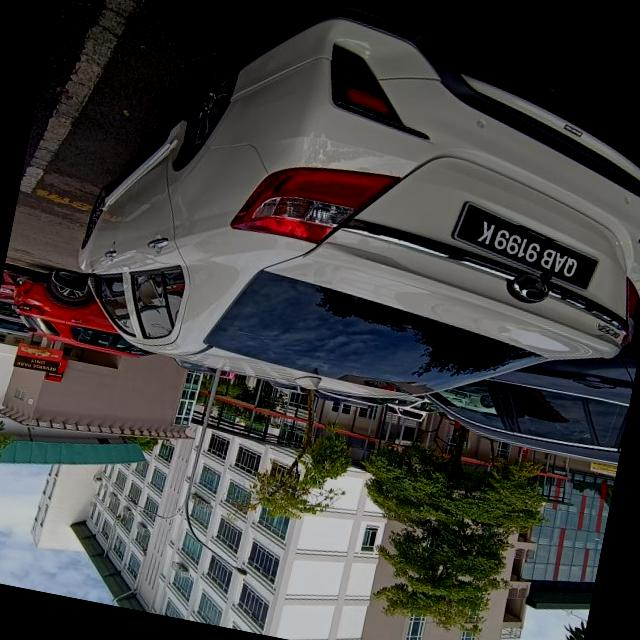PeroduaBezza: (59, 0, 640, 452)
